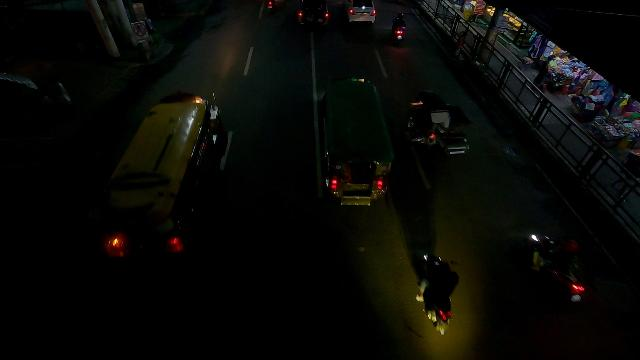car: (297, 1, 330, 28), (344, 0, 377, 23)
jeepney: (92, 91, 229, 258), (323, 78, 394, 205)
motorcycle: (526, 234, 587, 300), (416, 255, 459, 335), (391, 12, 406, 43)
